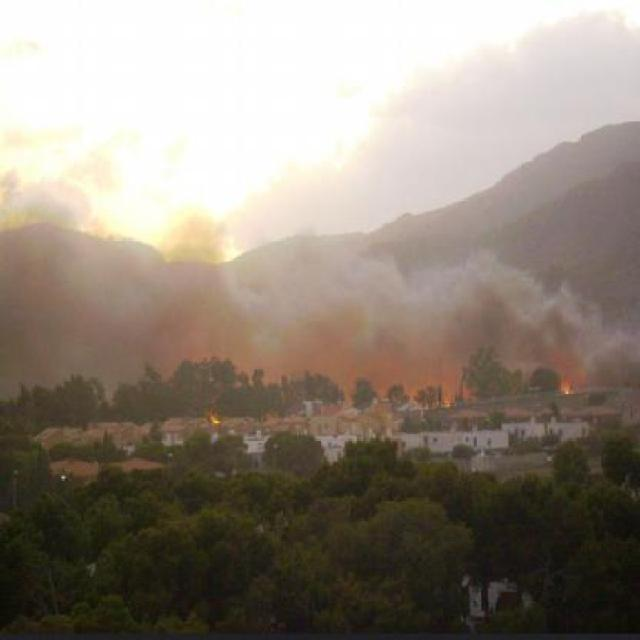Fire: (561, 380, 574, 394), (440, 396, 451, 409), (212, 415, 220, 423)
